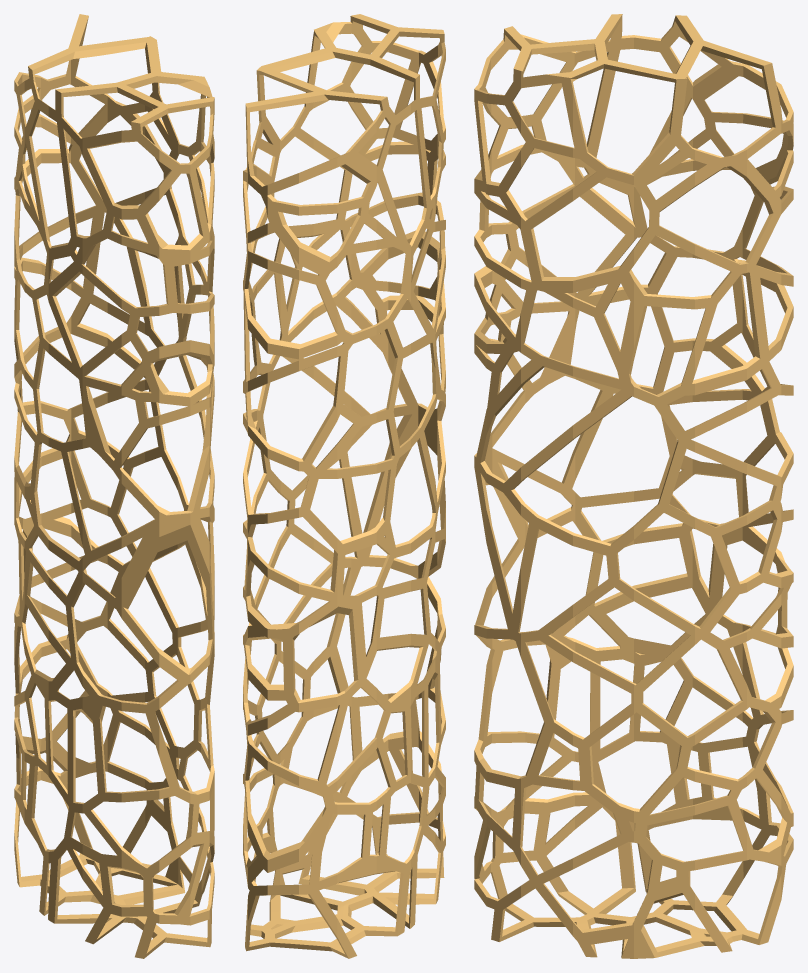
Rendered from nussstange.gltf.
3 views of the same model, side by side, from view 1: azimuth 30°, elevation 25°; view 2: azimuth 150°, elevation 25°; view 3: azimuth 270°, elevation 25° (orthographic). The views are drawn at different scales.
Visible parts, largest first — view 1: Cylinder_fracturepart1; view 2: Cylinder_fracturepart1; view 3: Cylinder_fracturepart1.
Boxes of the visible parts, <box> form: Cylinder_fracturepart1: <box>14,14,214,958</box>; Cylinder_fracturepart1: <box>243,14,445,958</box>; Cylinder_fracturepart1: <box>474,14,793,958</box>.
Size of the model in its own units: 626 by 3800 by 1252.
